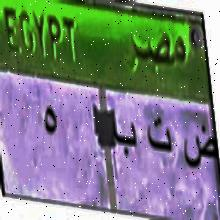5: (42, 99, 59, 145)
baa: (112, 113, 140, 164)
daad: (181, 115, 216, 180)
taa: (145, 110, 173, 162)
